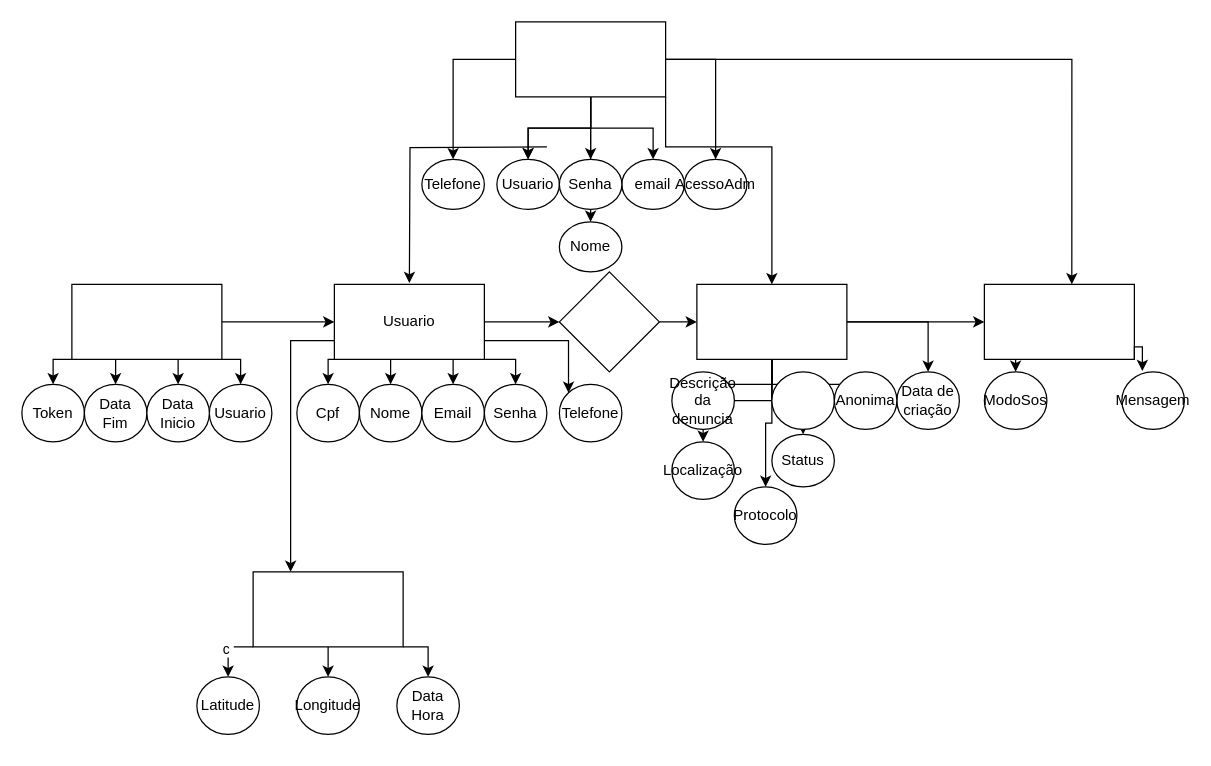
Some shapes in this 1211 by 766 pixel diagram are drawn without their labels. The shapes that lost their labels are listed below. From the top down, each one's box as (x1, y1, x2, y2) in pixels, then its label:
(514, 21, 666, 97): Administrador
(71, 283, 222, 359): Sessão
(558, 271, 659, 372): Registre
(696, 283, 847, 359): Denuncia
(983, 283, 1134, 359): Notificação
(771, 371, 834, 429): Tipo de Denuncia
(252, 571, 403, 647): Localização em Tempo Real
